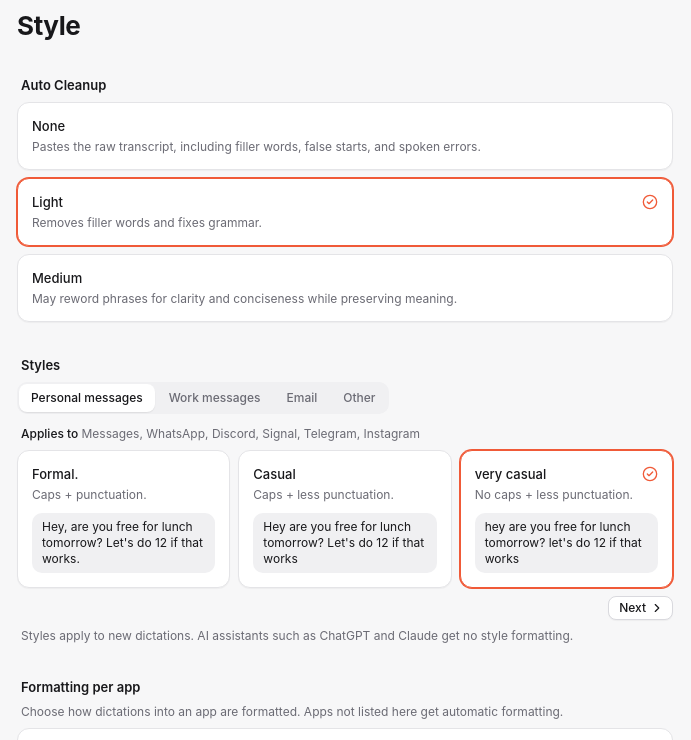
Test case: StylePage › moves to the next category and hides Next on the last
The width and height of the screenshot is (691, 740).
Click the button "Next": (641, 608) [608,596,673,620]
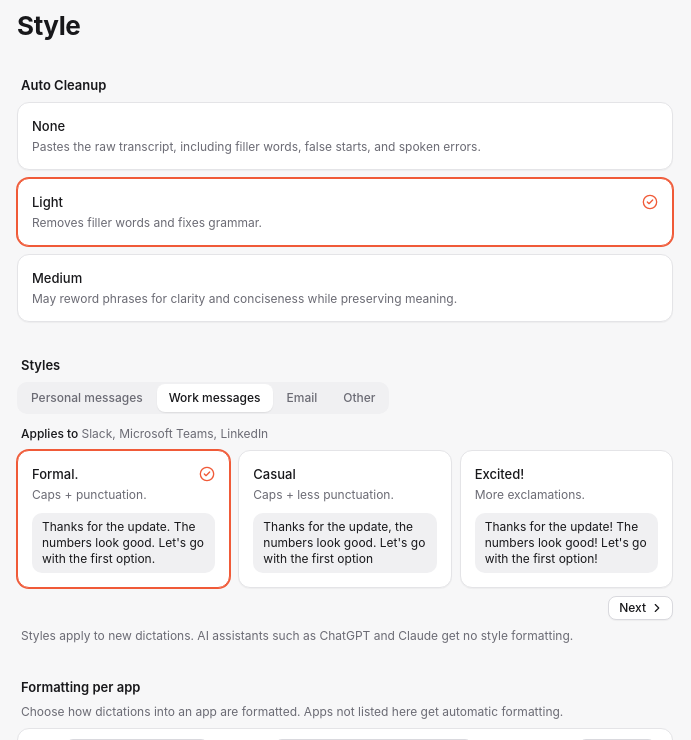
Check: the tab "Work messages" is selected, box [157,384,272,412]
Click the button "Next": (641, 608) [608,596,673,620]
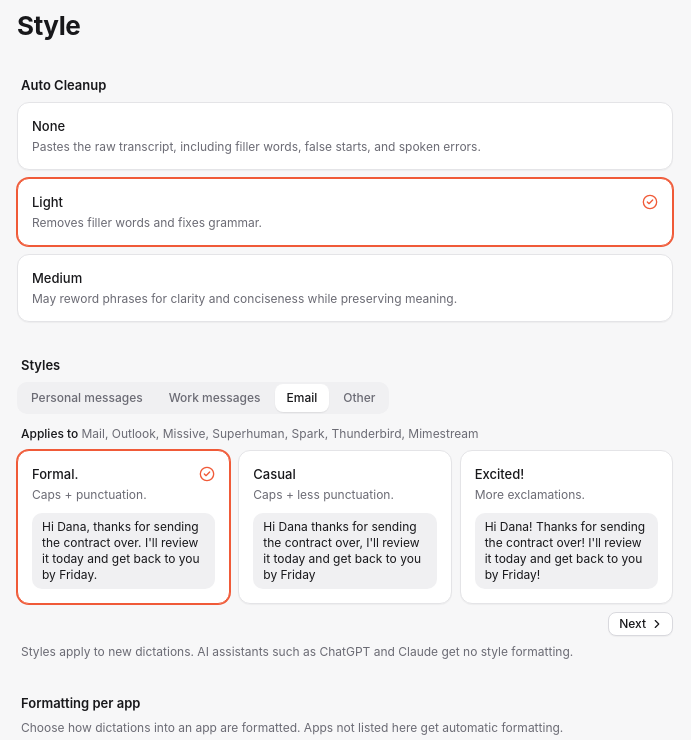
Check: the tab "Email" is selected, box [274,384,329,412]
Click the button "Next": (641, 624) [608,612,673,636]
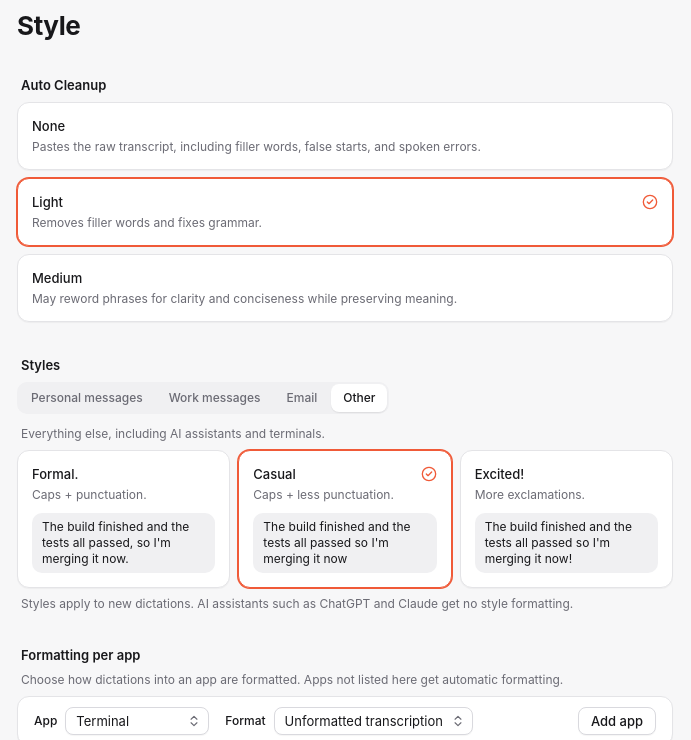
Check: the text "Styles apply to new dictations. AI assistants such as ChatGPT and Claude get no style formatting." is shown, box [21,596,573,611]
Check: the button "Next" is gone
Check: the text "Everything else, including AI assistants and terminals." is shown, box [21,426,325,441]
